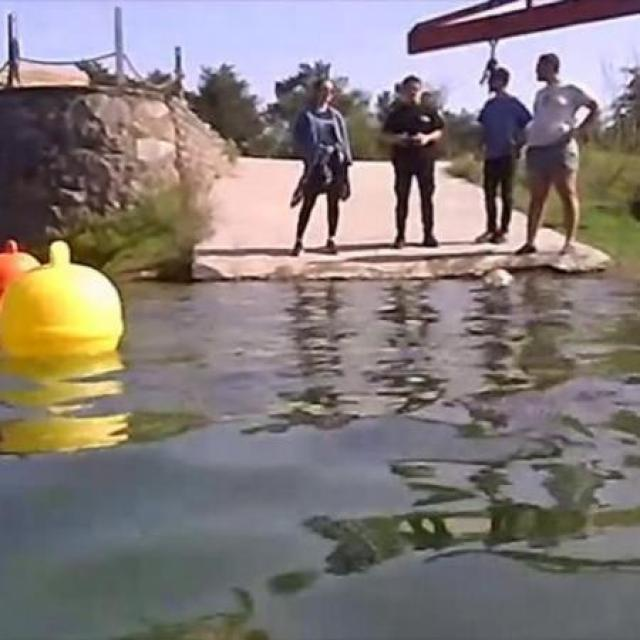buoy: (2, 242, 125, 357), (0, 237, 37, 276)
